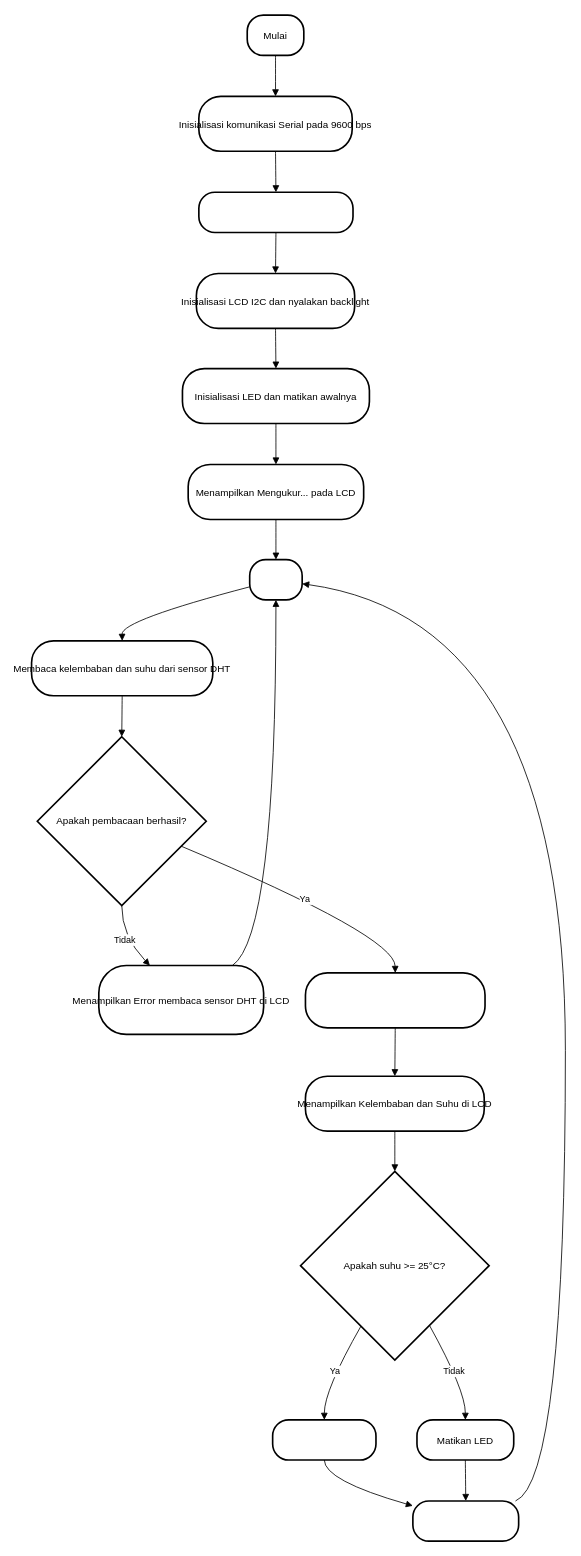
This 581x1556 diagram has some shape labels left out. Here are the shapes that lost their labels. From the top down, the centre of each, then its label:
At pixel 275 212: "Inisialisasi sensor DHT".
At pixel 275 579: "Loop".
At pixel 394 1000: "Menampilkan Kelembaban dan Suhu di Serial Monitor".
At pixel 323 1439: "Nyalakan LED".
At pixel 465 1521: "Tunda 2 detik".
